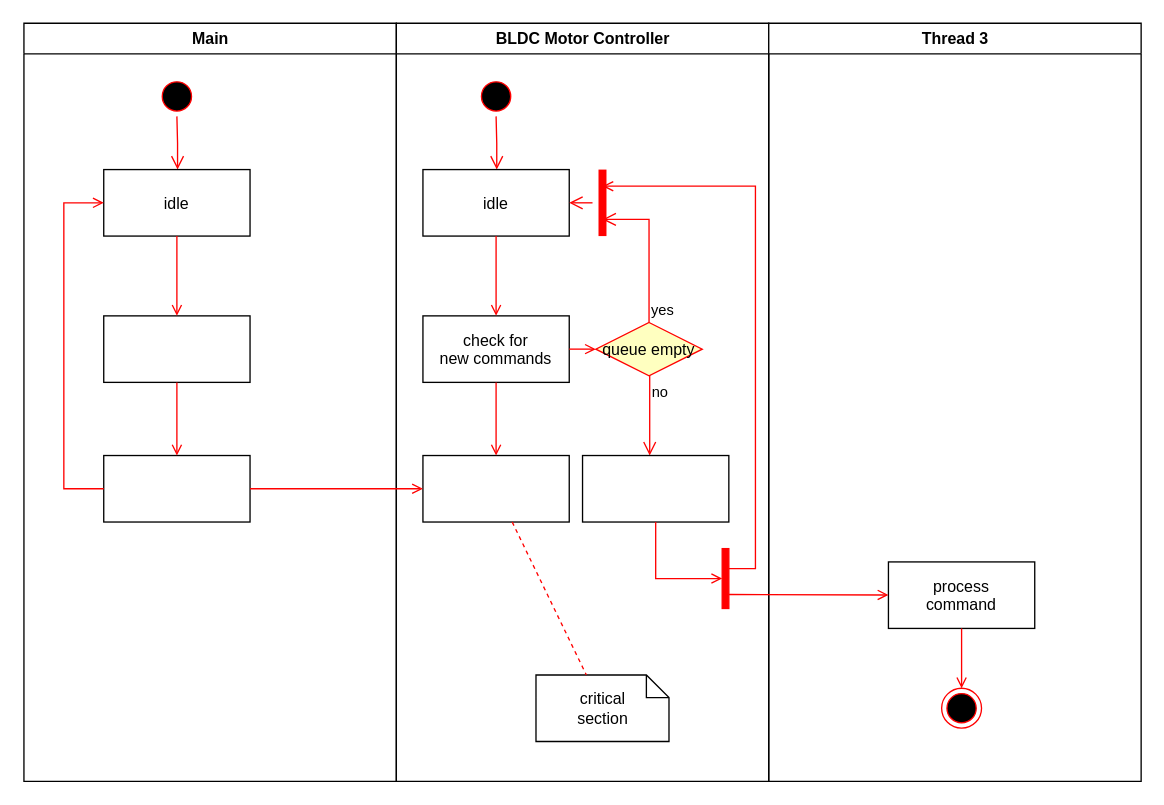
Image size: 1164x805. Some labels were removed from this diagram. Each missing label, with the centre of its shape:
command queue: point 495,488
dispatch command worker thread: point 655,488
post command: point 176,488
user action: point 176,348
